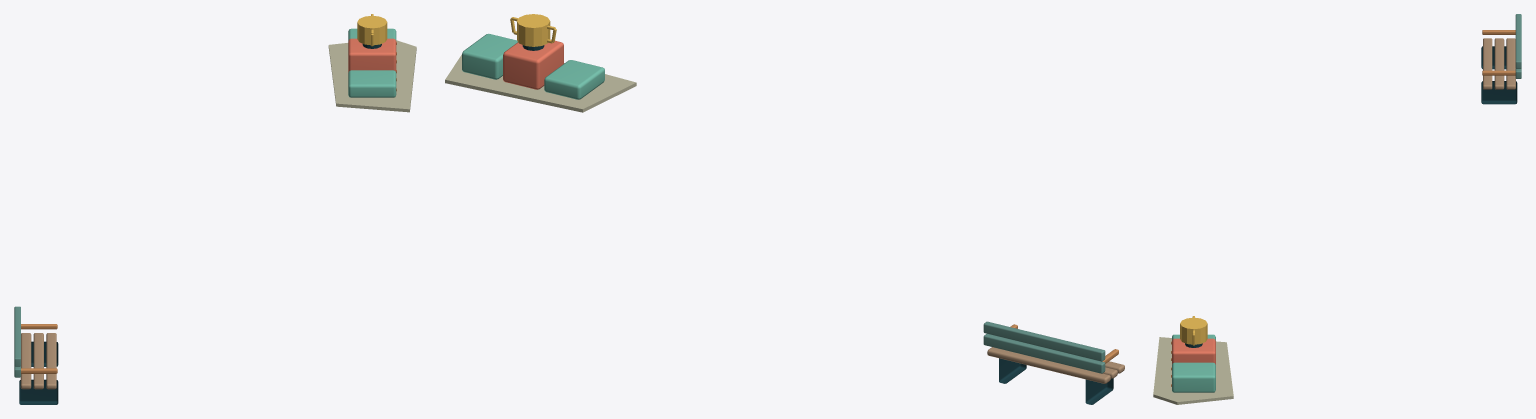
File: boardwalks_furniture.glb
3 views of the same model, side by side, from view 1: azimuth 90°, elevation 25°; view 2: azimuth 150°, elevation 25°; view 3: azimuth 270°, elevation 25° (orthographic). The views are drawn at different scales.
Visible parts, largest first — view 1: REFINED_BATCH_FURNITURE_REFINED_warm_path_NEW_V2, REFINED_BATCH_FURNITURE_REFINED_bench_wood_NEW_V2, REFINED_BATCH_FURNITURE_Craft_mint_vinyl_NEW_V2, REFINED_BATCH_FURNITURE_Craft_coral_vinyl_NEW_V2, REFINED_BATCH_FURNITURE_Craft_MOD_chassis_dark_NEW_V2, REFINED_BATCH_FURNITURE_Craft_ochre_vinyl_NEW_V2, REFINED_BATCH_FURNITURE_Craft_MOD_sage_shell_NEW_V2, REFINED_BATCH_FURNITURE_Craft_MOD_copper_latch_NEW_V2; view 2: REFINED_BATCH_FURNITURE_Craft_mint_vinyl_NEW_V2, REFINED_BATCH_FURNITURE_Craft_MOD_sage_shell_NEW_V2, REFINED_BATCH_FURNITURE_REFINED_warm_path_NEW_V2, REFINED_BATCH_FURNITURE_Craft_coral_vinyl_NEW_V2, REFINED_BATCH_FURNITURE_REFINED_bench_wood_NEW_V2, REFINED_BATCH_FURNITURE_Craft_ochre_vinyl_NEW_V2, REFINED_BATCH_FURNITURE_Craft_MOD_chassis_dark_NEW_V2; view 3: REFINED_BATCH_FURNITURE_REFINED_warm_path_NEW_V2, REFINED_BATCH_FURNITURE_REFINED_bench_wood_NEW_V2, REFINED_BATCH_FURNITURE_Craft_mint_vinyl_NEW_V2, REFINED_BATCH_FURNITURE_Craft_MOD_chassis_dark_NEW_V2, REFINED_BATCH_FURNITURE_Craft_coral_vinyl_NEW_V2, REFINED_BATCH_FURNITURE_Craft_ochre_vinyl_NEW_V2, REFINED_BATCH_FURNITURE_Craft_MOD_sage_shell_NEW_V2, REFINED_BATCH_FURNITURE_Craft_MOD_copper_latch_NEW_V2.
Part boxes in pixels (box(x1,y1,x2,y2)): REFINED_BATCH_FURNITURE_REFINED_warm_path_NEW_V2: box(328, 40, 416, 112); REFINED_BATCH_FURNITURE_REFINED_bench_wood_NEW_V2: box(20, 333, 56, 389); REFINED_BATCH_FURNITURE_Craft_mint_vinyl_NEW_V2: box(348, 28, 396, 97); REFINED_BATCH_FURNITURE_Craft_coral_vinyl_NEW_V2: box(348, 38, 396, 72); REFINED_BATCH_FURNITURE_Craft_MOD_chassis_dark_NEW_V2: box(19, 44, 381, 404); REFINED_BATCH_FURNITURE_Craft_ochre_vinyl_NEW_V2: box(357, 14, 387, 46); REFINED_BATCH_FURNITURE_Craft_MOD_sage_shell_NEW_V2: box(14, 306, 20, 377); REFINED_BATCH_FURNITURE_Craft_MOD_copper_latch_NEW_V2: box(21, 42, 396, 373); REFINED_BATCH_FURNITURE_Craft_mint_vinyl_NEW_V2: box(462, 33, 604, 99); REFINED_BATCH_FURNITURE_Craft_MOD_sage_shell_NEW_V2: box(983, 321, 1105, 373); REFINED_BATCH_FURNITURE_REFINED_warm_path_NEW_V2: box(445, 54, 636, 112); REFINED_BATCH_FURNITURE_Craft_coral_vinyl_NEW_V2: box(503, 40, 563, 89); REFINED_BATCH_FURNITURE_REFINED_bench_wood_NEW_V2: box(987, 347, 1124, 383); REFINED_BATCH_FURNITURE_Craft_ochre_vinyl_NEW_V2: box(510, 14, 556, 46); REFINED_BATCH_FURNITURE_Craft_MOD_chassis_dark_NEW_V2: box(522, 45, 1113, 404); REFINED_BATCH_FURNITURE_REFINED_warm_path_NEW_V2: box(1153, 337, 1233, 404); REFINED_BATCH_FURNITURE_REFINED_bench_wood_NEW_V2: box(1483, 38, 1515, 89); REFINED_BATCH_FURNITURE_Craft_mint_vinyl_NEW_V2: box(1172, 334, 1215, 392); REFINED_BATCH_FURNITURE_Craft_MOD_chassis_dark_NEW_V2: box(1185, 46, 1517, 347); REFINED_BATCH_FURNITURE_Craft_coral_vinyl_NEW_V2: box(1172, 338, 1215, 364); REFINED_BATCH_FURNITURE_Craft_ochre_vinyl_NEW_V2: box(1180, 316, 1207, 345); REFINED_BATCH_FURNITURE_Craft_MOD_sage_shell_NEW_V2: box(1515, 14, 1521, 78); REFINED_BATCH_FURNITURE_Craft_MOD_copper_latch_NEW_V2: box(1171, 30, 1515, 386).
Bounding box in the file's own units: 11.73 × 0.81 × 5.36.
